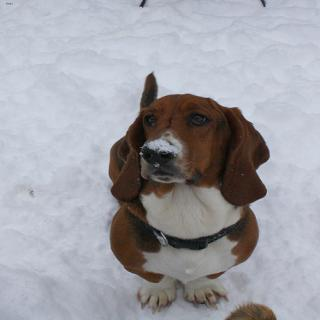dog: (104, 72, 270, 308)
